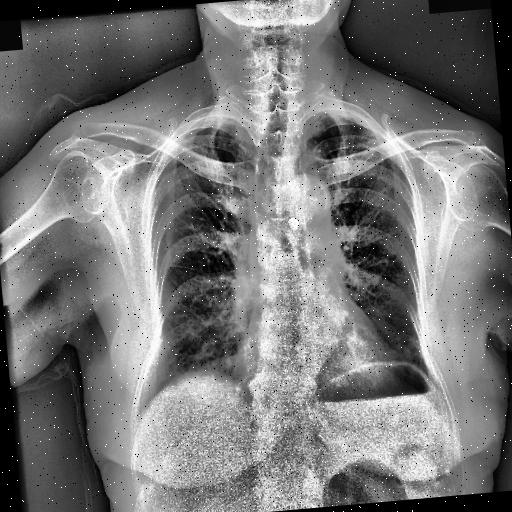0- Aortic enlargement: (282, 172, 334, 242), (277, 174, 332, 233), (286, 170, 333, 222)
3- Cardiomegaly: (232, 322, 391, 396)
5- ILD: (160, 298, 226, 382), (376, 296, 422, 376)
